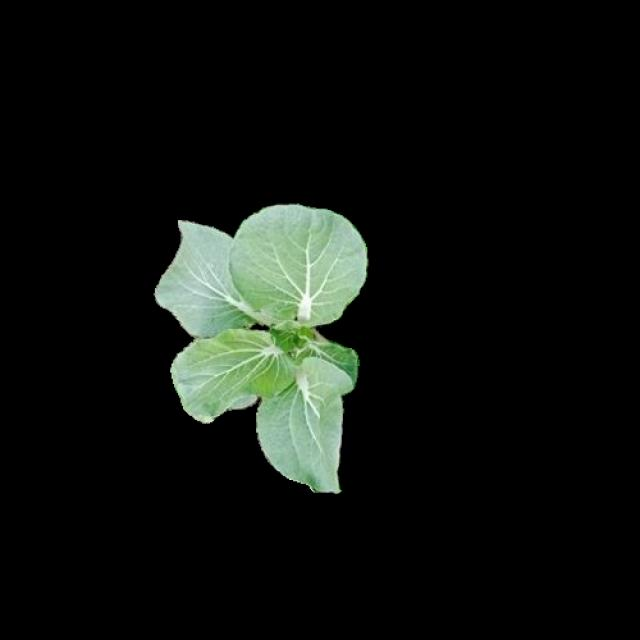healthy: (156, 219, 365, 490)
not-mature: (158, 205, 368, 493)
